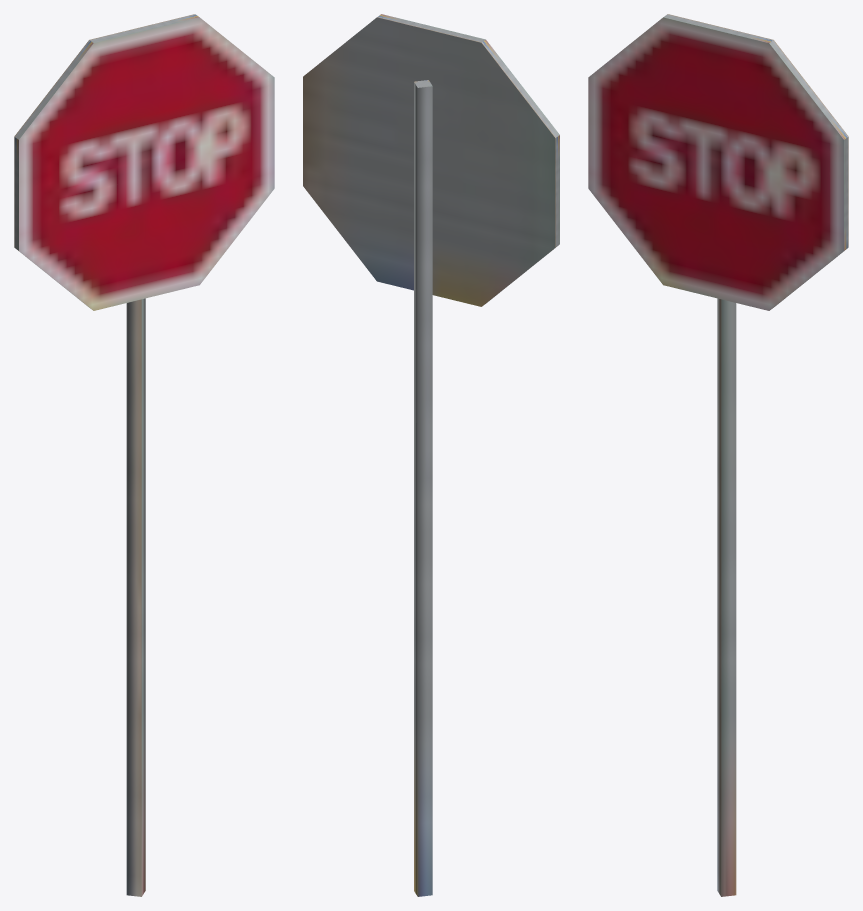
The model's file is panneau_stop_lod2.glb.
The picture shows the model from 3 angles, left to right: view 1: azimuth 30°, elevation 25°; view 2: azimuth 150°, elevation 25°; view 3: azimuth 330°, elevation 25°; orthographic projection.
Parts seen in each view (by area): view 1: panneau_stop; view 2: panneau_stop; view 3: panneau_stop.
Boxes of the visible parts, x1,y1,x2,y2 form: panneau_stop: (14,14,274,896); panneau_stop: (303,14,559,896); panneau_stop: (588,14,848,896).
Bounding box in the file's own units: 0.8 × 2.6 × 0.0875.
1 material, 1 textured.
